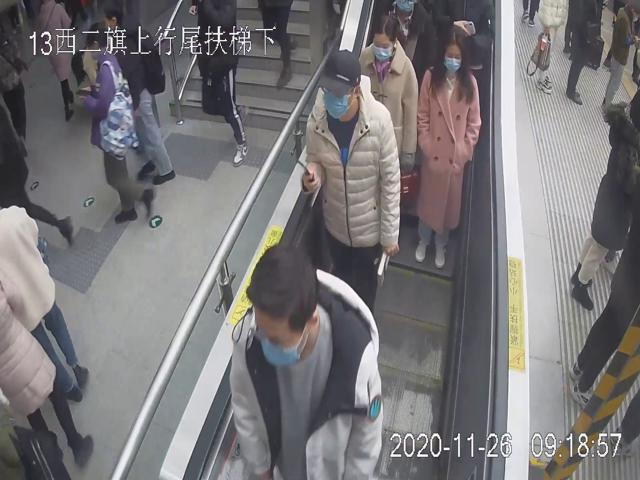person: (229, 237, 387, 480), (296, 47, 402, 305), (415, 22, 480, 270), (357, 12, 419, 209)
